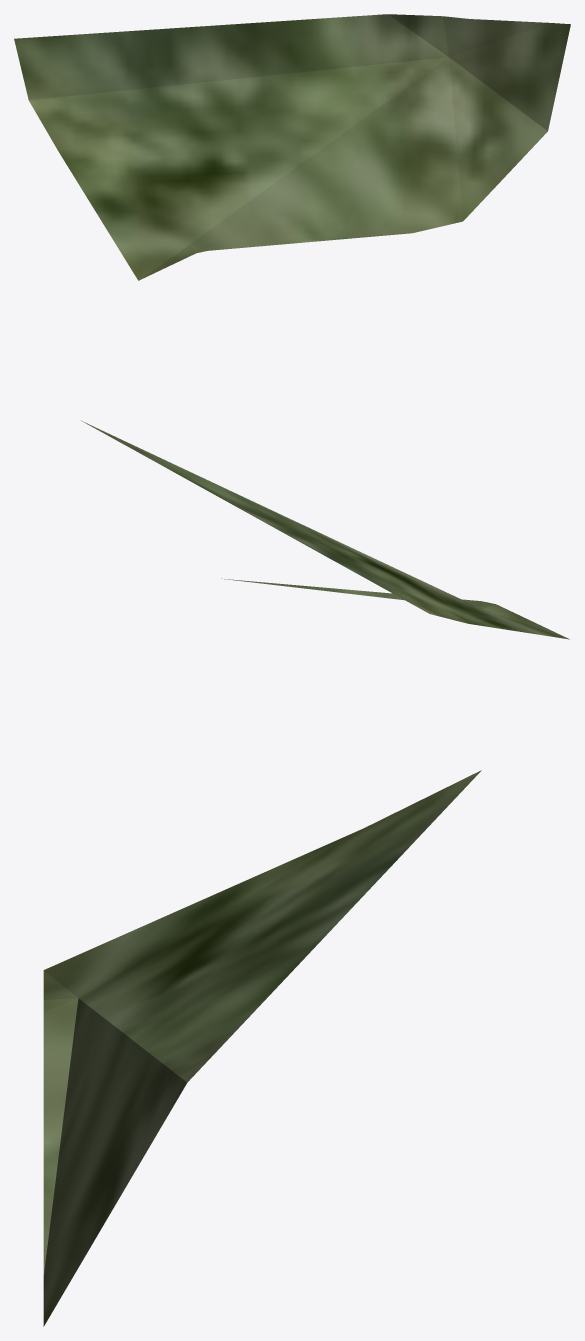
The picture shows the model from 3 angles, top to bottom: view 1: azimuth 30°, elevation 25°; view 2: azimuth 150°, elevation 25°; view 3: azimuth 270°, elevation 25°; orthographic projection. The views are drawn at different scales.
Bounding box in the file's own units: 0.8008 × 0.3025 × 0.3987.
Materials: 1 (1 with a texture image).
